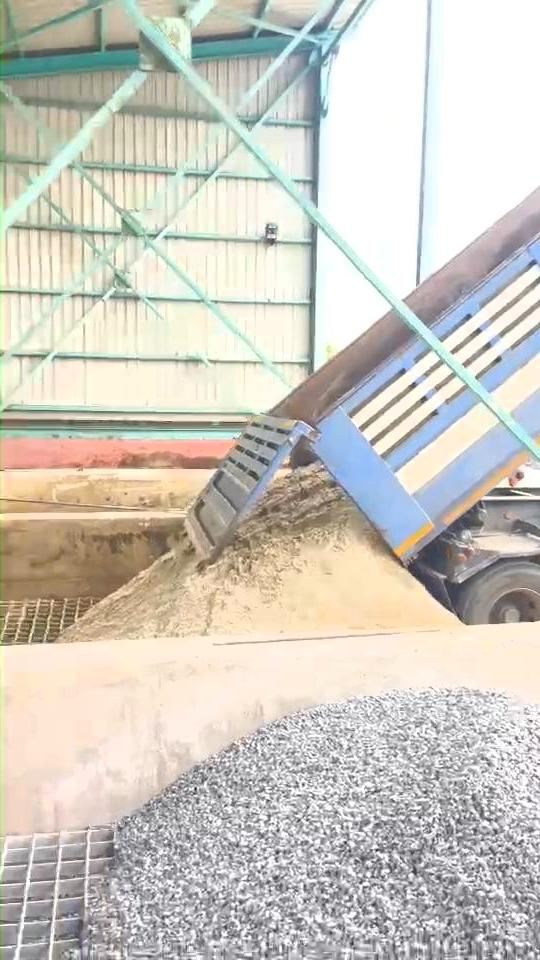gravel: (90, 690, 540, 959)
sand: (62, 466, 457, 641)
